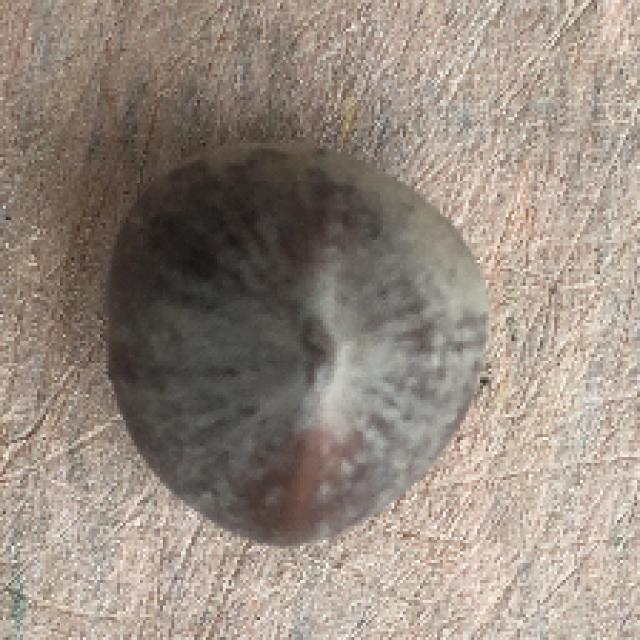damagedHazelnut: (108, 143, 491, 554)
